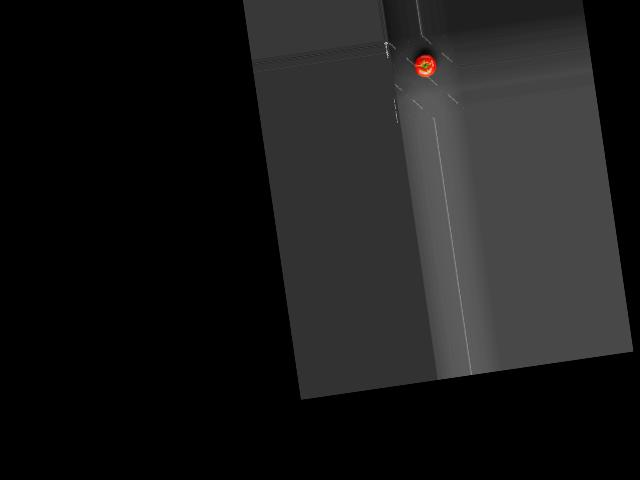tomato: (412, 53, 437, 79)
